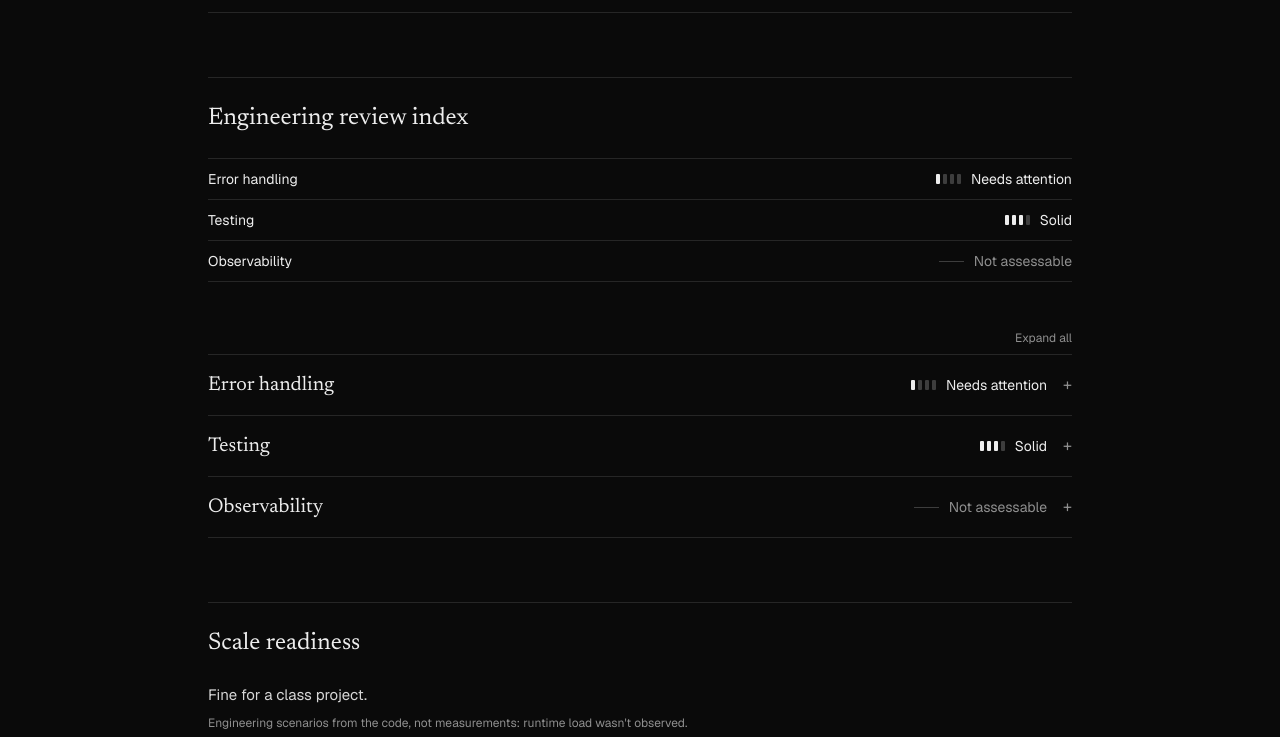
evidence lines expand into the exact reviewed code
The width and height of the screenshot is (1280, 737).
(page scrolled)
Click the button "Expand all" at (1044, 338), box [1015,330,1072,346]
(page scrolled)
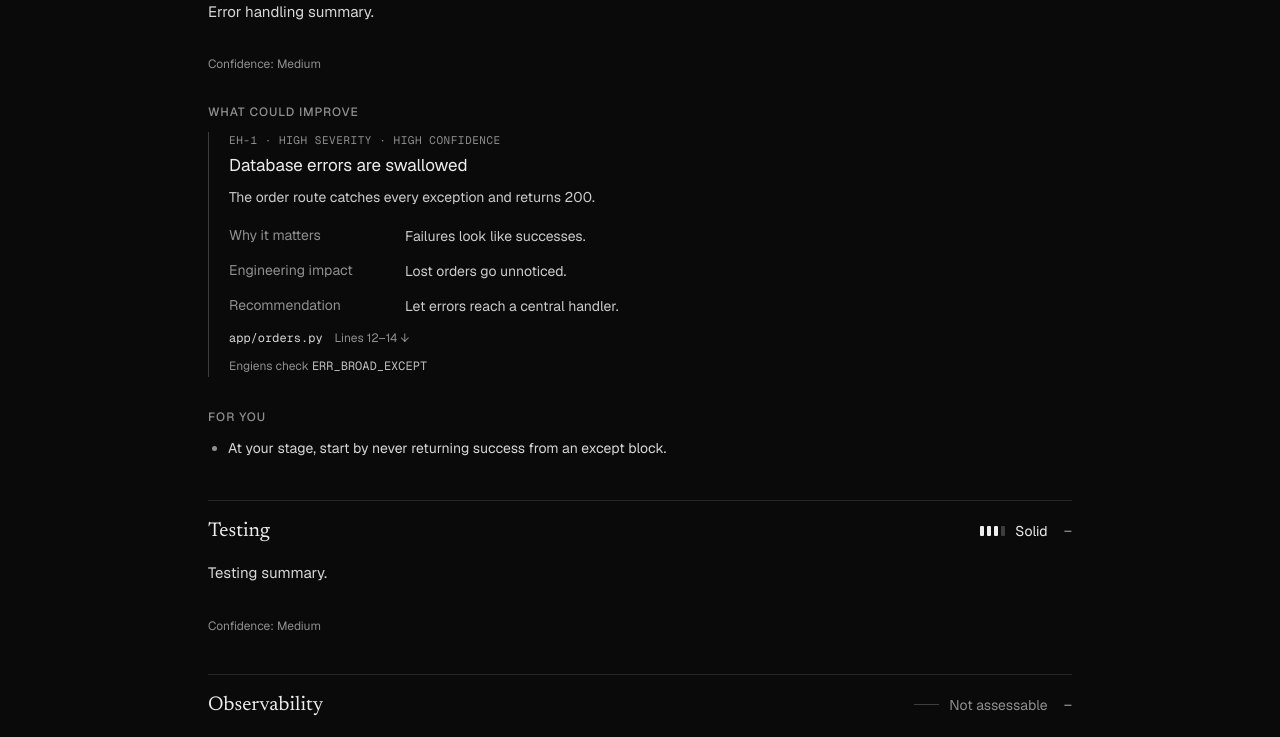
Click the button "Lines 12–14 ↓" at (372, 338), box [335,330,409,346]
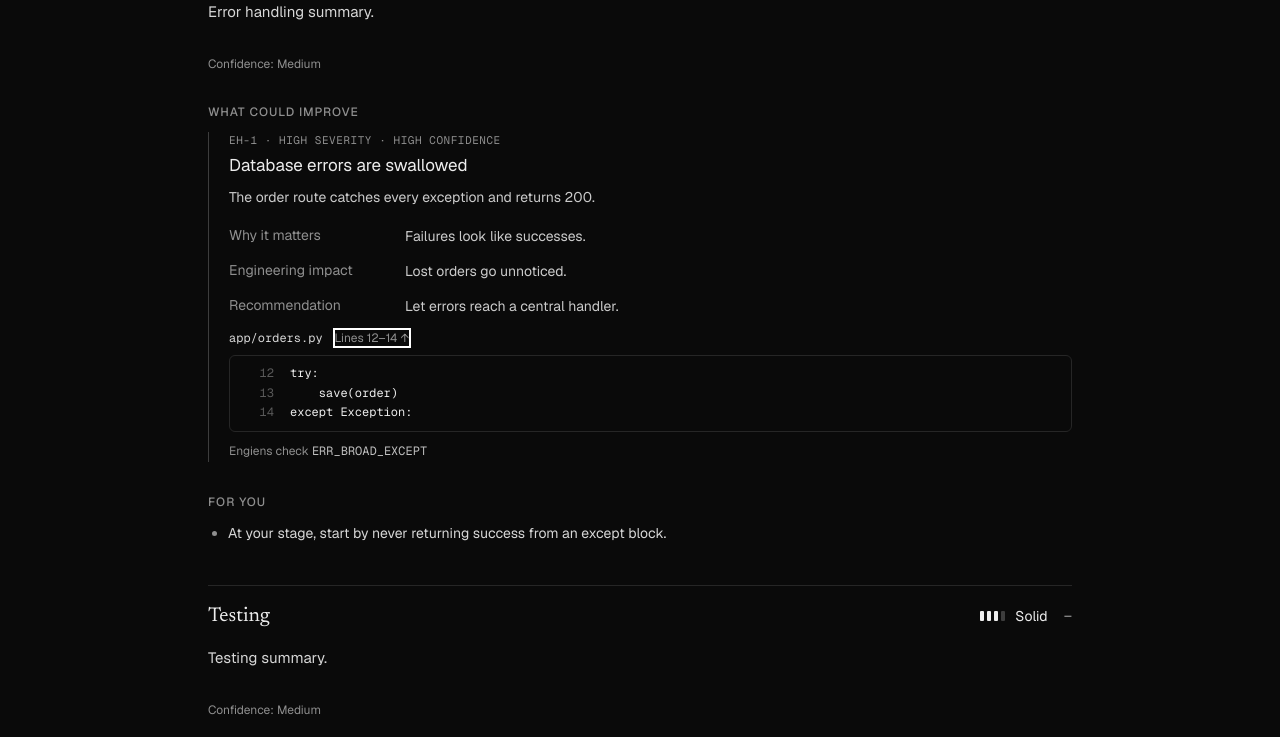
expect the text "except Exception:" is shown: met, box [290,404,412,420]
